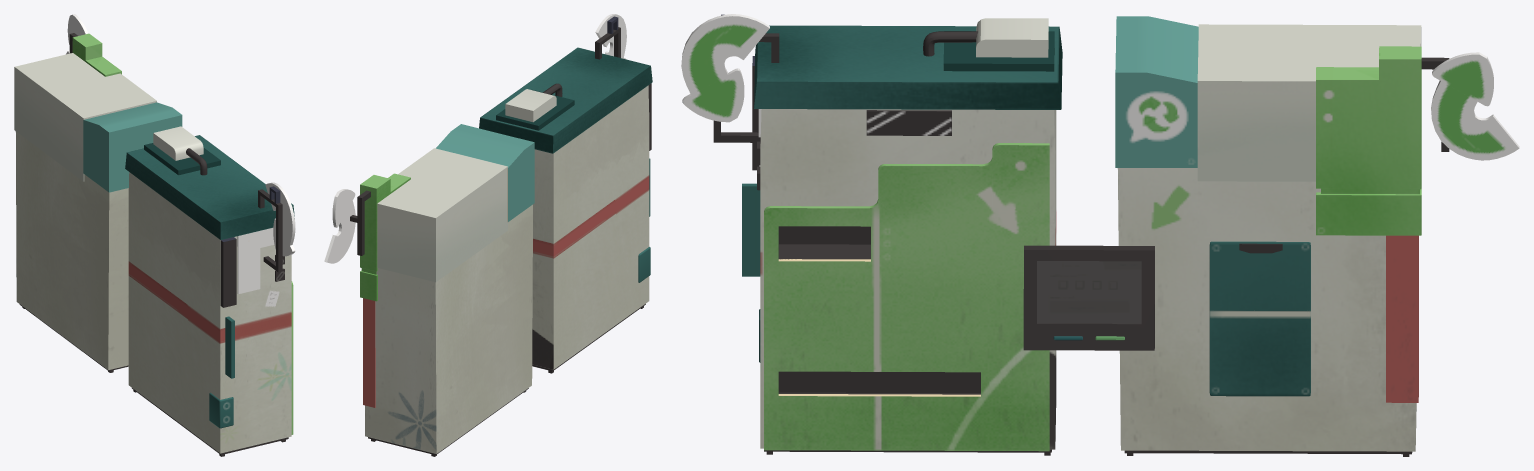
The picture shows the model from 3 angles, left to right: view 1: azimuth 30°, elevation 25°; view 2: azimuth 150°, elevation 25°; view 3: azimuth 270°, elevation 25°; orthographic projection. The views are drawn at different scales.
Parts seen in each view (by area): view 1: ReUpcycler.001; view 2: ReUpcycler.001; view 3: ReUpcycler.001.
Part boxes in pixels (x1,y1,x2,y2): ReUpcycler.001: (14,14,295,456); ReUpcycler.001: (324,14,652,456); ReUpcycler.001: (681,14,1519,456).
Size of the model in its own units: 1.53 by 4.2 by 7.5.
1 material, 1 textured.
